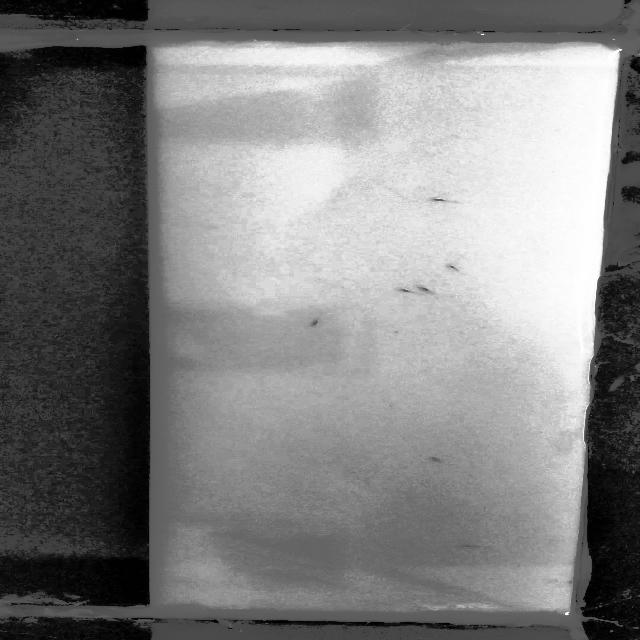shrimp: (425, 194, 451, 208), (416, 283, 436, 298), (440, 262, 462, 275), (398, 284, 417, 298), (426, 454, 446, 466), (457, 542, 483, 550), (309, 316, 324, 329)
